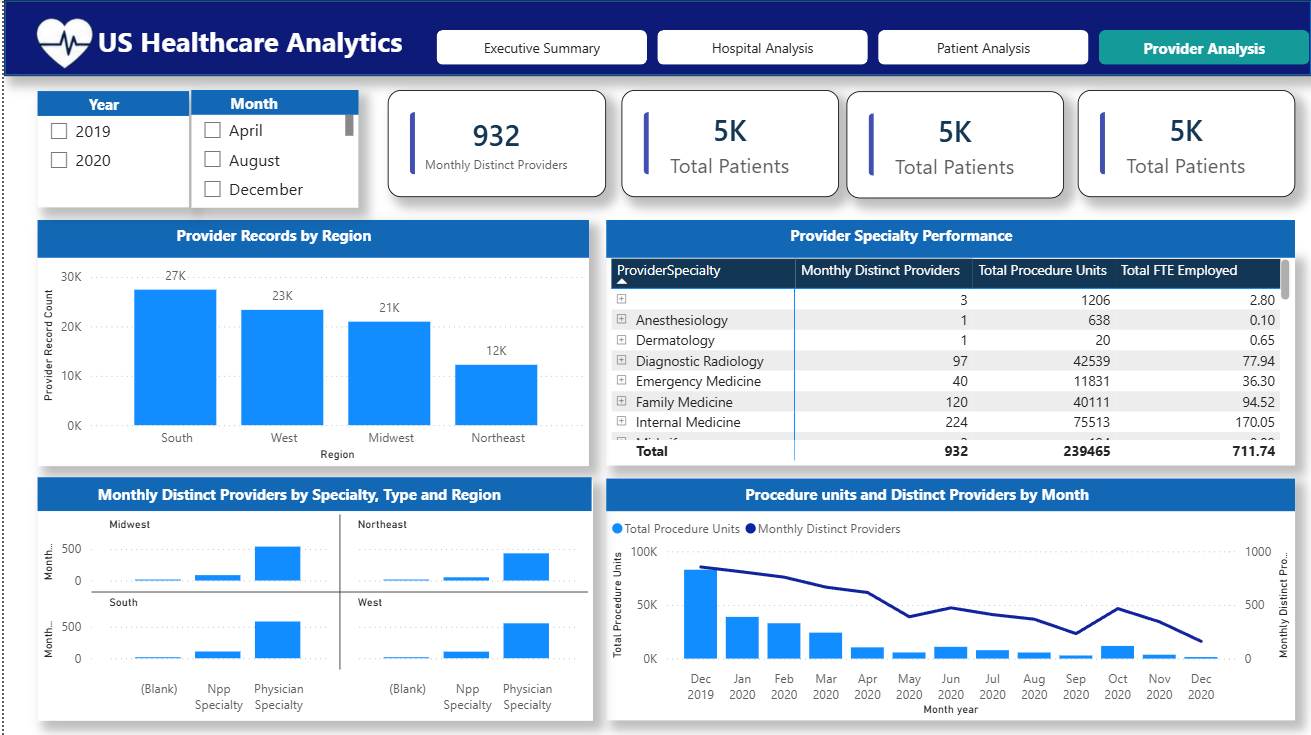

Layout of this report page (visuals, bound fields, positions):
{"tool":"powerbi","page":{"name":"Payer Analysis","canvas":[1280,720],"ordinal":3},"visuals":[{"type":"lineClusteredColumnComboChart","fields":{"Y":["FactTable.Total Procedure Units"],"Category":["DimDate.Month year"],"Y2":["FactTable.Monthly Distinct Providers"]},"box":[589.9,467.1,673.4,238],"z":0},{"type":"clusteredColumnChart","fields":{"Y":["FactTable.Monthly Distinct Providers"],"Category":["DimSpeciality.SpecialityType"],"Rows":["DimPatient.Region"]},"box":[32.9,468.4,543,236.7],"z":1000},{"type":"pivotTable","fields":{"Rows":["DimSpeciality.ProviderSpecialty","DimSpeciality.SpecialityType"],"Values":["FactTable.Monthly Distinct Providers","FactTable.Total Procedure Units","DimPhysician.Total FTE Employed"]},"box":[589.9,248.1,673.4,207.6],"z":2000},{"type":"clusteredColumnChart","fields":{"Y":["DimPhysician.Provider Record Count"],"Category":["DimPatient.Region"]},"box":[32.9,215.2,539.2,240.5],"z":3000},{"type":"shape","box":[0,0,1279.7,74.7],"z":4000},{"type":"cardVisual","fields":{"Data":["FactTable.Monthly Distinct Providers"]},"box":[375.9,88.6,213.9,105.1],"z":5000},{"type":"cardVisual","fields":{"Data":["FactTable.Total Patients"]},"box":[603.8,88.6,212.7,105.1],"z":6000},{"type":"cardVisual","fields":{"Data":["FactTable.Total Patients"]},"box":[824.1,89.9,212.7,105.1],"z":7000},{"type":"cardVisual","fields":{"Data":["FactTable.Total Patients"]},"box":[1050.6,88.6,212.7,105.1],"z":8000},{"type":"shape","box":[32.9,215.2,539.2,36.7],"z":9000},{"type":"textbox","box":[149.4,215.2,226.6,32.9],"z":10000},{"type":"shape","box":[589.9,215.2,673.4,36.7],"z":11000},{"type":"textbox","box":[764.6,215.2,300,36.7],"z":12000},{"type":"shape","box":[32.9,467.1,541.8,32.9],"z":13000},{"type":"textbox","box":[87.3,468.4,472.2,87.3],"z":14000},{"type":"shape","box":[589.9,468.4,673.4,31.6],"z":15000},{"type":"textbox","box":[720.3,468.4,472.2,54.4],"z":16000},{"type":"slicer","fields":{"Values":["DimDate.Year"]},"box":[32.9,89.9,148.1,113.9],"z":17000},{"type":"slicer","fields":{"Values":["DimDate.Month"]},"box":[183.5,88.6,163.3,115.2],"z":18000},{"type":"shape","box":[32.9,89.9,148.1,24.1],"z":19000},{"type":"shape","box":[183.5,88.6,163.3,24.1],"z":20000},{"type":"textbox","box":[78.5,87.3,84.8,31.6],"z":21000},{"type":"textbox","box":[216.5,86.1,87.3,32.9],"z":22000},{"type":"textbox","box":[87.3,17.7,396.2,57],"z":23000},{"type":"pageNavigator","box":[422.8,29.1,857,34.2],"z":24000},{"type":"image","box":[10.1,17.7,97.5,54.4],"z":25000}]}

Visuals, with their boxes in screenshot pixels (x1, y1, x2, y2), scaled from the page's 1280x720 canvas onto the 1311x735 screenshot:
lineClusteredColumnComboChart - FactTable.Total Procedure Units x DimDate.Month year: bbox(604, 477, 1294, 720)
clusteredColumnChart - FactTable.Monthly Distinct Providers x DimSpeciality.SpecialityType: bbox(34, 478, 590, 720)
pivotTable - DimSpeciality.ProviderSpecialty x DimSpeciality.SpecialityType: bbox(604, 253, 1294, 465)
clusteredColumnChart - DimPhysician.Provider Record Count x DimPatient.Region: bbox(34, 220, 586, 465)
shape: bbox(0, 0, 1310, 76)
cardVisual - FactTable.Monthly Distinct Providers: bbox(385, 90, 604, 198)
cardVisual - FactTable.Total Patients: bbox(618, 90, 836, 198)
cardVisual - FactTable.Total Patients: bbox(844, 92, 1062, 199)
cardVisual - FactTable.Total Patients: bbox(1076, 90, 1294, 198)
shape: bbox(34, 220, 586, 257)
textbox: bbox(153, 220, 385, 253)
shape: bbox(604, 220, 1294, 257)
textbox: bbox(783, 220, 1090, 257)
shape: bbox(34, 477, 589, 510)
textbox: bbox(89, 478, 573, 567)
shape: bbox(604, 478, 1294, 510)
textbox: bbox(738, 478, 1221, 534)
slicer - DimDate.Year: bbox(34, 92, 185, 208)
slicer - DimDate.Month: bbox(188, 90, 355, 208)
shape: bbox(34, 92, 185, 116)
shape: bbox(188, 90, 355, 115)
textbox: bbox(80, 89, 167, 121)
textbox: bbox(222, 88, 311, 121)
textbox: bbox(89, 18, 495, 76)
pageNavigator: bbox(433, 30, 1310, 65)
image: bbox(10, 18, 110, 74)
